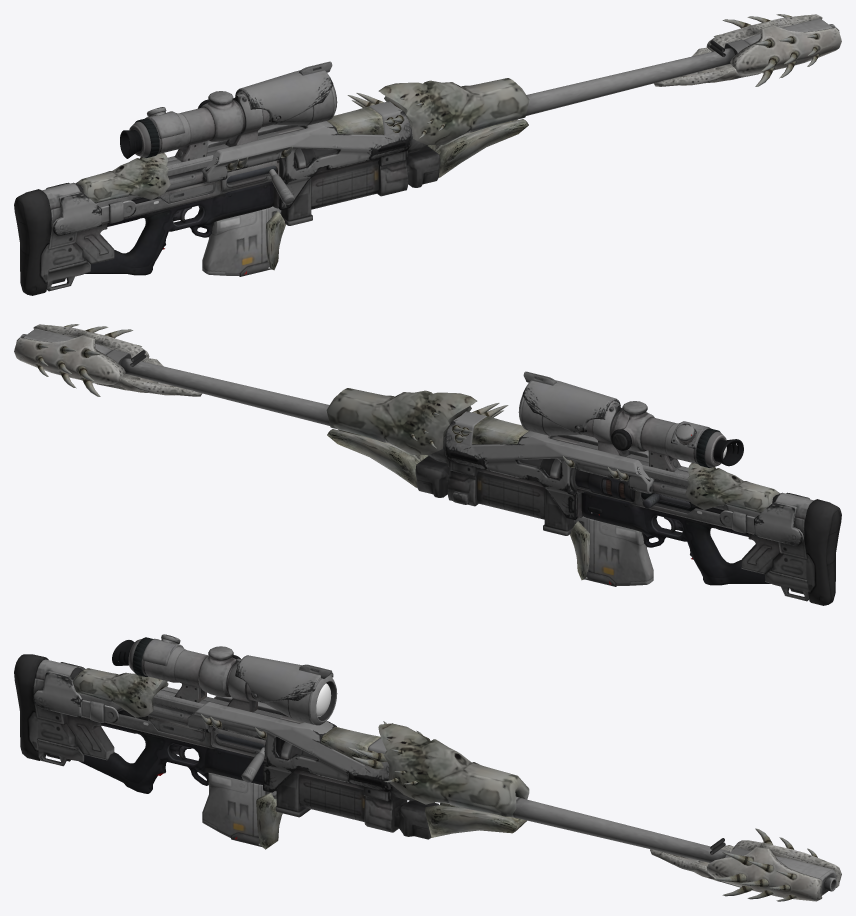
Rendered from BlackSpindle.gltf.
The picture shows the model from 3 angles, top to bottom: view 1: azimuth 30°, elevation 25°; view 2: azimuth 150°, elevation 25°; view 3: azimuth 330°, elevation 25°; orthographic projection.
Visible parts, largest first — view 1: Black-Spindle.013, Black-Spindle.014, Black-Spindle.003, Black-Spindle.017, Black-Spindle.016, Black-Spindle.012, Black-Spindle.008, Black-Spindle.011, Black-Spindle.005, Black-Spindle.015; view 2: Black-Spindle.013, Black-Spindle.014, Black-Spindle.003, Black-Spindle.017, Black-Spindle.016, Black-Spindle.012, Black-Spindle.008, Black-Spindle.005, Black-Spindle.011, Black-Spindle.015; view 3: Black-Spindle.013, Black-Spindle.014, Black-Spindle.003, Black-Spindle.017, Black-Spindle.016, Black-Spindle.012, Black-Spindle.008, Black-Spindle.011, Black-Spindle.005, Black-Spindle.015, Black-Spindle.018.
Part boxes in pixels (x1=…): Black-Spindle.013: x1=201, y1=14, x2=841, y2=183; Black-Spindle.014: x1=202, y1=18, x2=835, y2=225; Black-Spindle.003: x1=85, y1=132, x2=293, y2=275; Black-Spindle.017: x1=14, y1=182, x2=136, y2=295; Black-Spindle.016: x1=207, y1=101, x2=410, y2=209; Black-Spindle.012: x1=120, y1=61, x2=335, y2=161; Black-Spindle.008: x1=266, y1=106, x2=528, y2=270; Black-Spindle.011: x1=145, y1=70, x2=333, y2=138; Black-Spindle.005: x1=202, y1=206, x2=281, y2=276; Black-Spindle.015: x1=76, y1=153, x2=170, y2=203; Black-Spindle.013: x1=14, y1=324, x2=654, y2=493; Black-Spindle.014: x1=20, y1=328, x2=653, y2=535; Black-Spindle.003: x1=575, y1=442, x2=770, y2=585; Black-Spindle.017: x1=719, y1=492, x2=841, y2=605; Black-Spindle.016: x1=445, y1=411, x2=648, y2=519; Black-Spindle.012: x1=520, y1=371, x2=743, y2=471; Black-Spindle.008: x1=327, y1=416, x2=589, y2=580; Black-Spindle.005: x1=574, y1=516, x2=653, y2=586; Black-Spindle.011: x1=522, y1=380, x2=710, y2=448; Black-Spindle.015: x1=685, y1=463, x2=779, y2=513; Black-Spindle.013: x1=151, y1=680, x2=841, y2=901; Black-Spindle.014: x1=187, y1=715, x2=836, y2=895; Black-Spindle.003: x1=79, y1=686, x2=282, y2=793; Black-Spindle.017: x1=14, y1=654, x2=118, y2=766; Black-Spindle.016: x1=188, y1=696, x2=392, y2=792; Black-Spindle.012: x1=112, y1=637, x2=332, y2=724; Black-Spindle.008: x1=256, y1=726, x2=526, y2=849; Black-Spindle.011: x1=142, y1=634, x2=333, y2=702; Black-Spindle.005: x1=202, y1=773, x2=276, y2=846; Black-Spindle.015: x1=72, y1=668, x2=162, y2=717; Black-Spindle.018: x1=223, y1=659, x2=337, y2=725.
Size of the model in its own units: 1.59 by 0.3556 by 0.1624.
9 materials, 7 textured.
